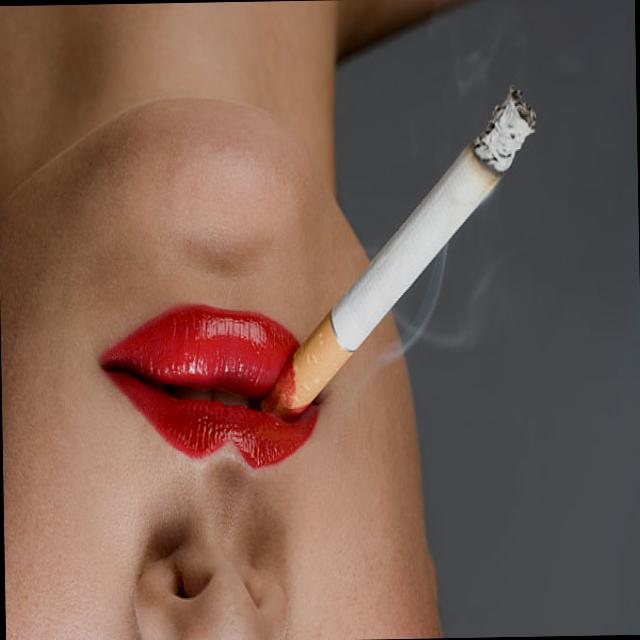cigarette: (282, 80, 538, 416)
